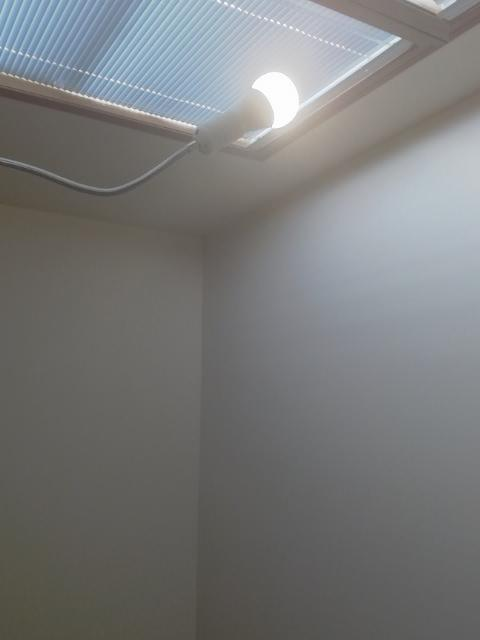TubeLight: (230, 70, 299, 139)
